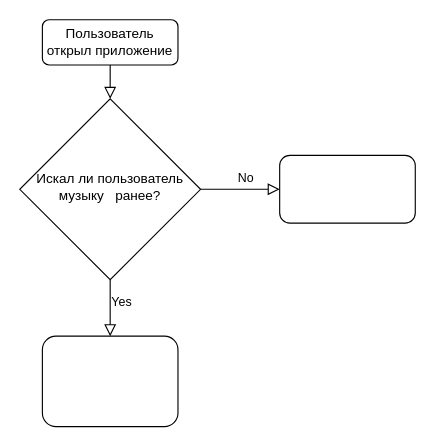
Some shapes in this 435 by 446 pixel diagram are drawn without their labels. Each missing label, with the centre of its shape:
"Отображение обычного экрана поиска" belongs at [347,188].
"Отображение экрана поиска с историей поиска" belongs at [109,381].
